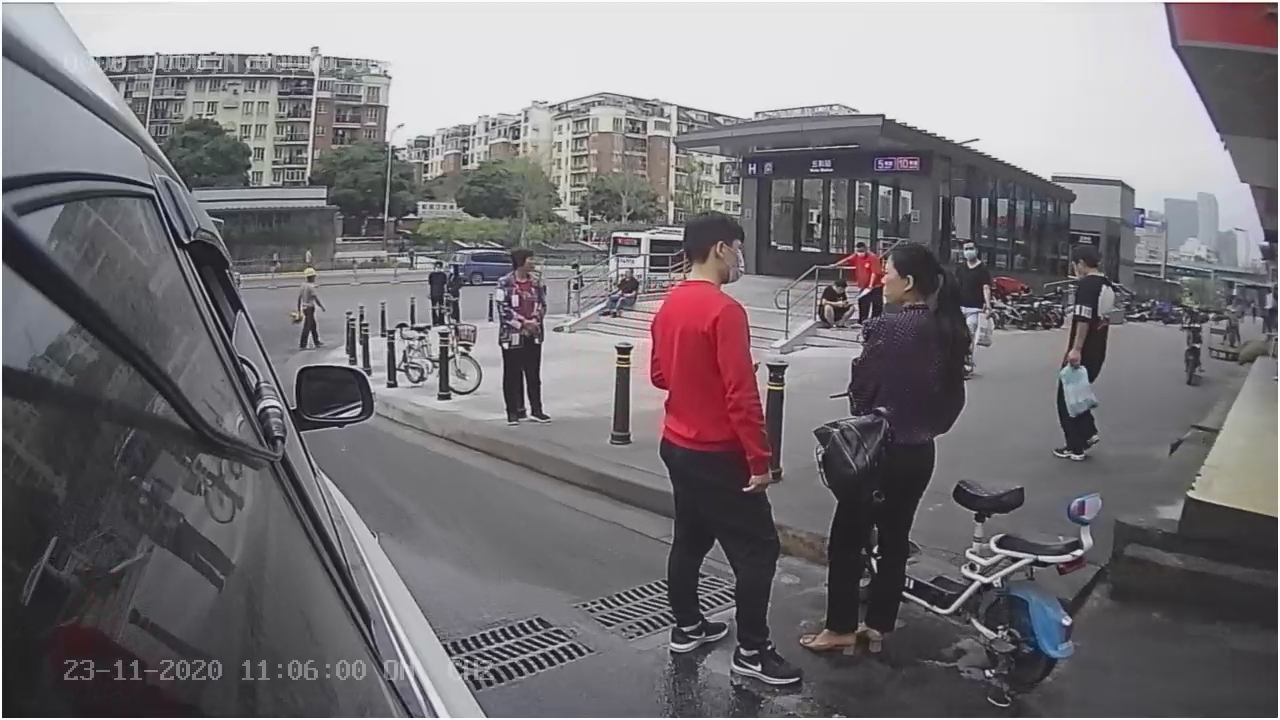person: (646, 205, 805, 689)
